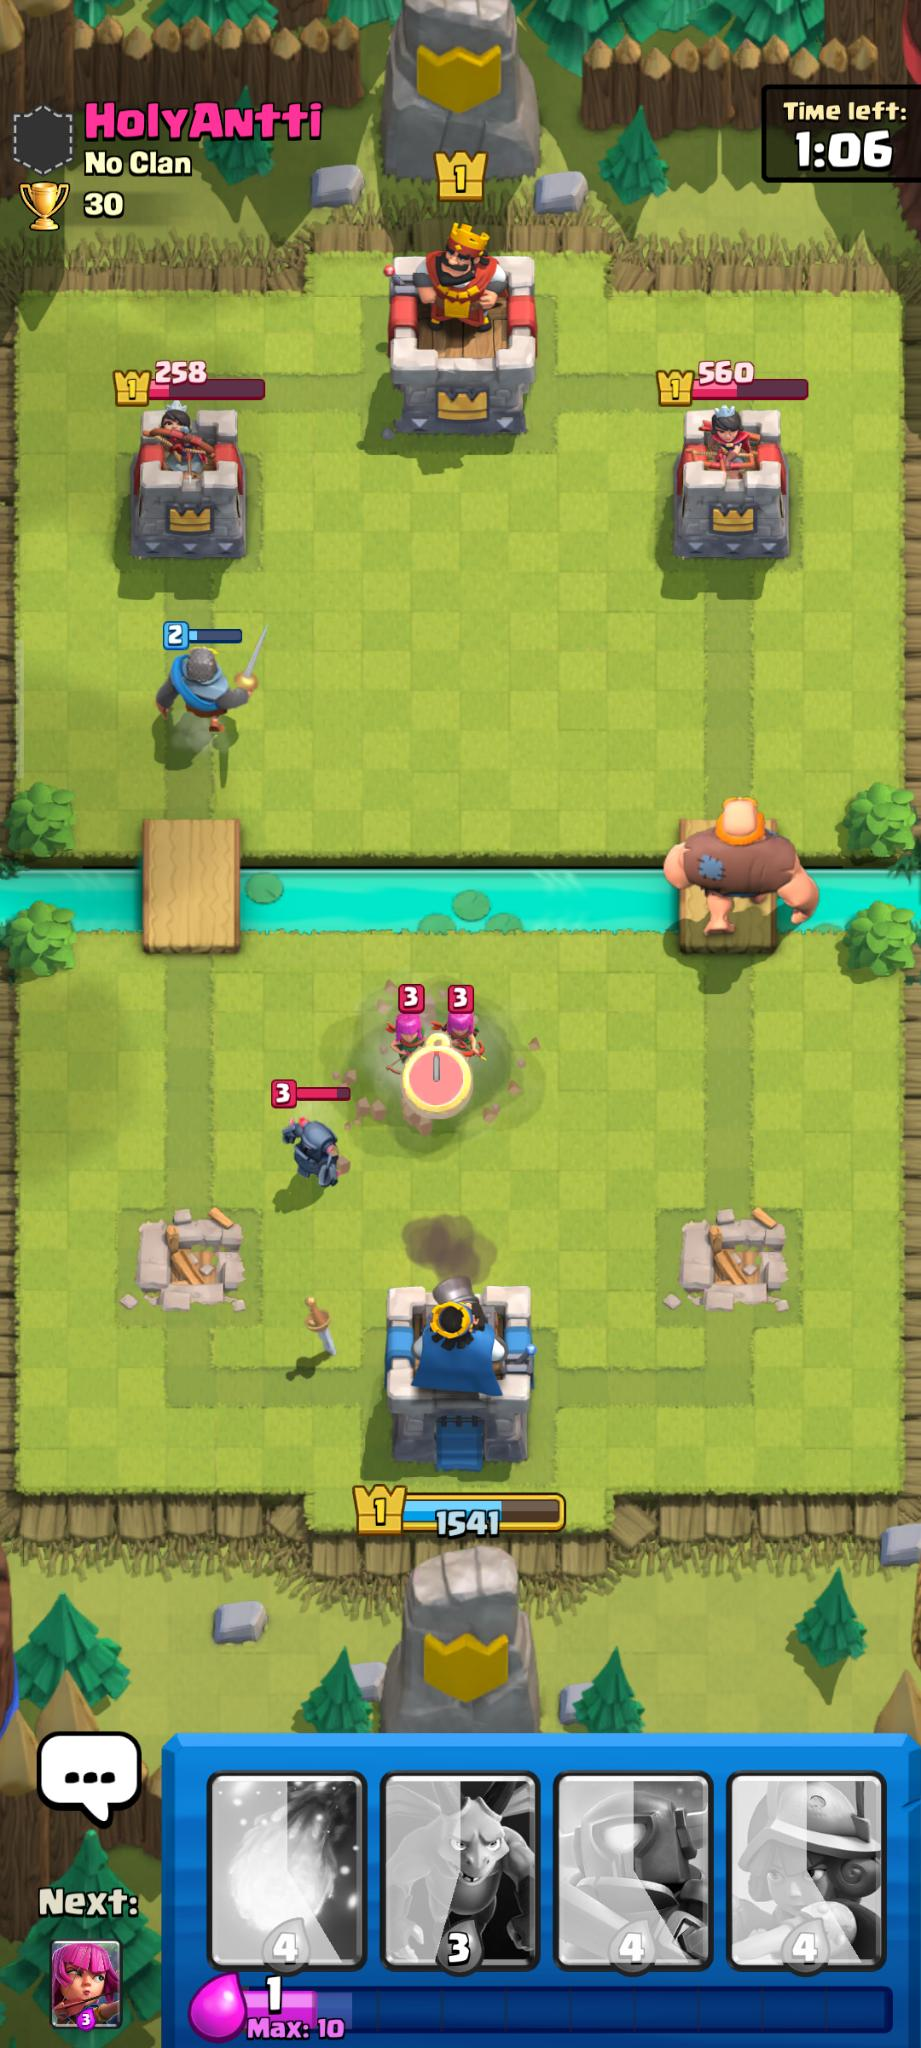archere: (443, 994, 487, 1066)
chevalier: (145, 632, 261, 744)
geant: (658, 802, 820, 950)
mini_PEKKA: (278, 1115, 350, 1189)
